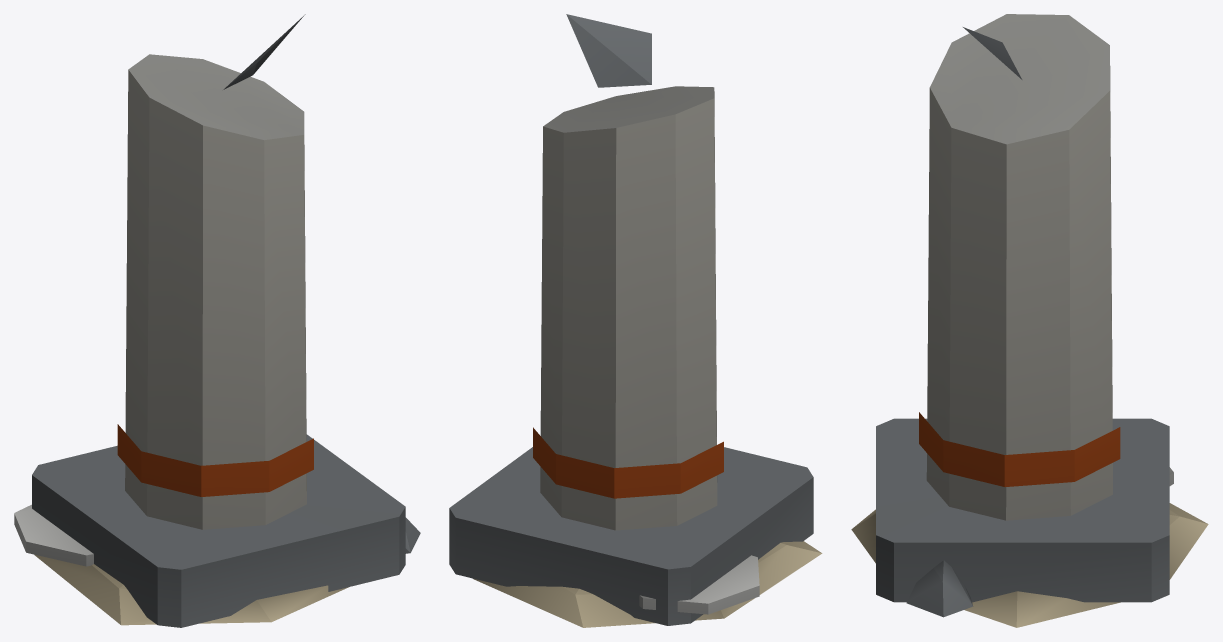
Rendered from ruin_column_a.glb.
3 views of the same model, side by side, from view 1: azimuth 30°, elevation 25°; view 2: azimuth 150°, elevation 25°; view 3: azimuth 270°, elevation 25° (orthographic). The views are drawn at different scales.
Parts seen in each view (by area): view 1: body; view 2: body; view 3: body.
Part boxes in pixels (<box>): body: <box>14,14,420,627</box>; body: <box>449,14,822,627</box>; body: <box>851,14,1208,627</box>.
Bounding box in the file's own units: 0.768 × 1.19 × 0.7065.
